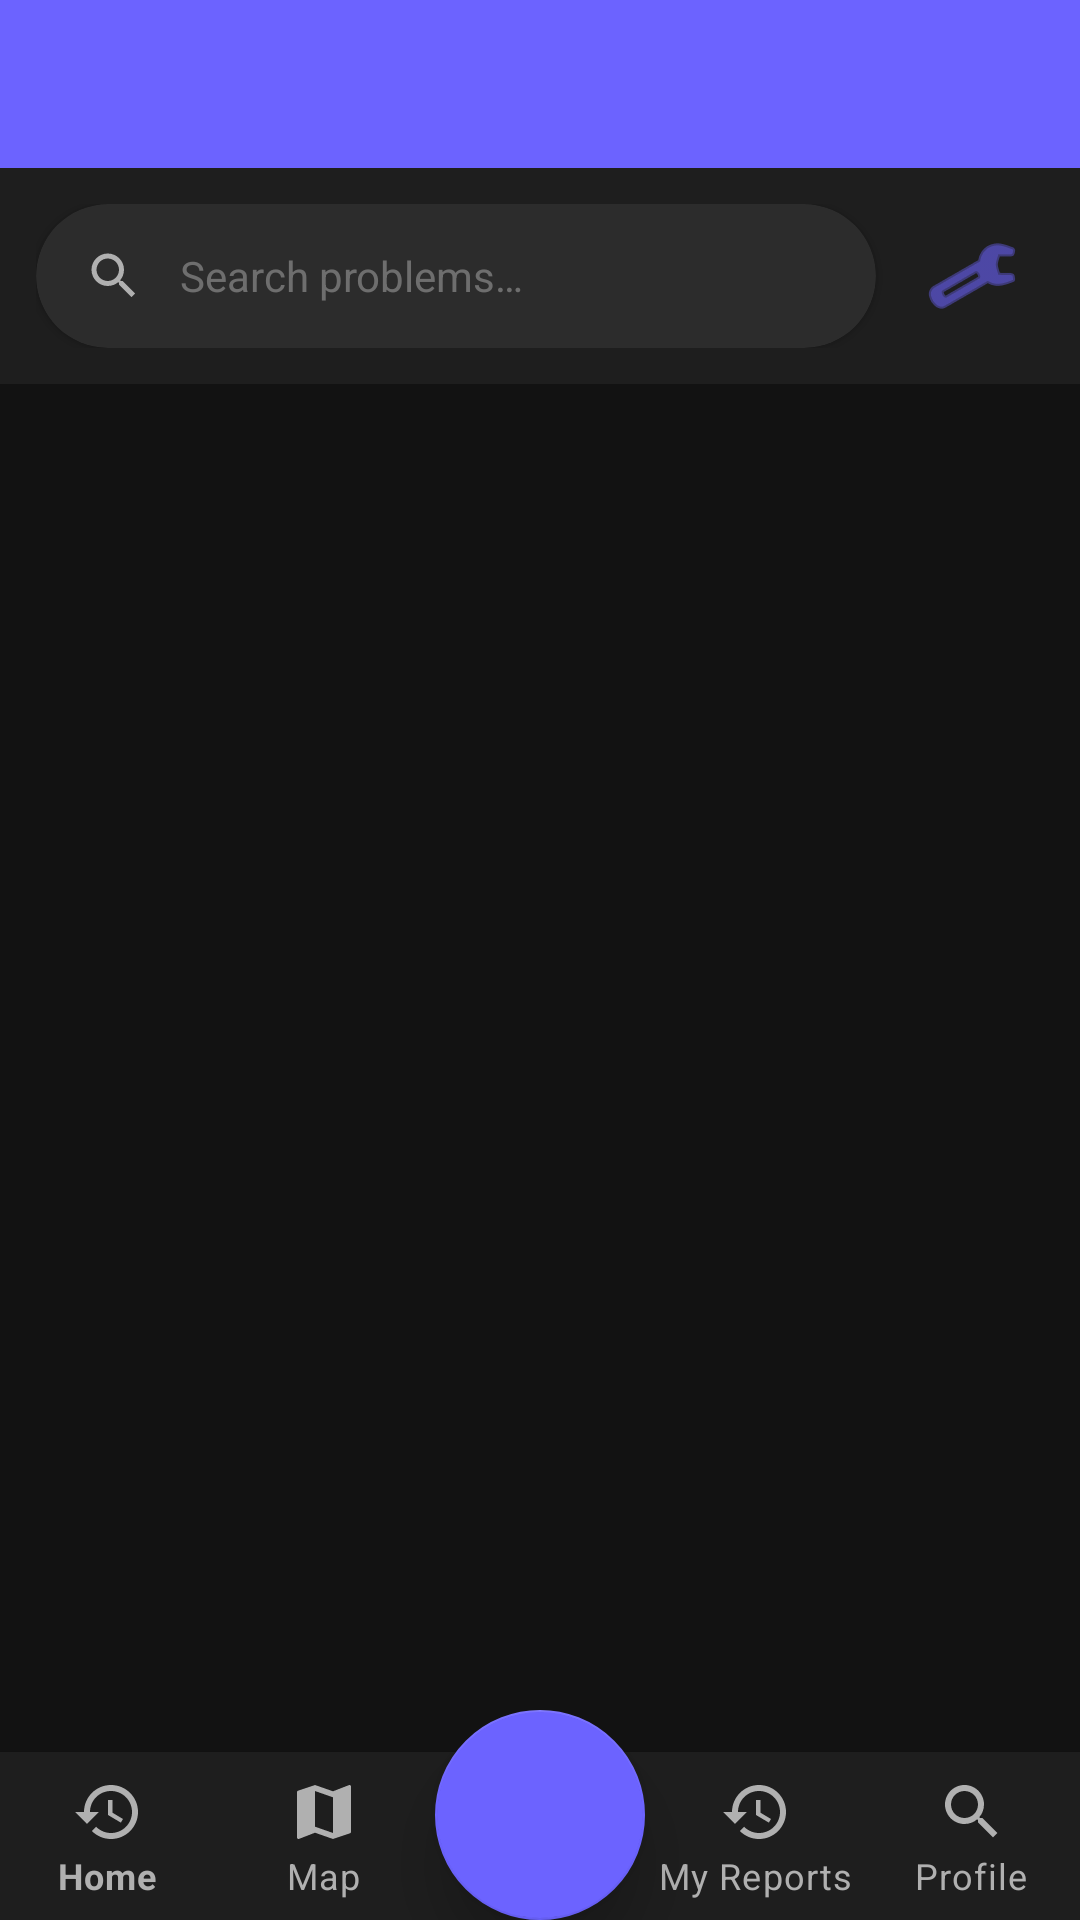

Icons on this 1080 × 1920 Android screen, each with the point to tap as (x=x, y=y):
preferences: (x=972, y=276)
search modern: (x=113, y=275)
